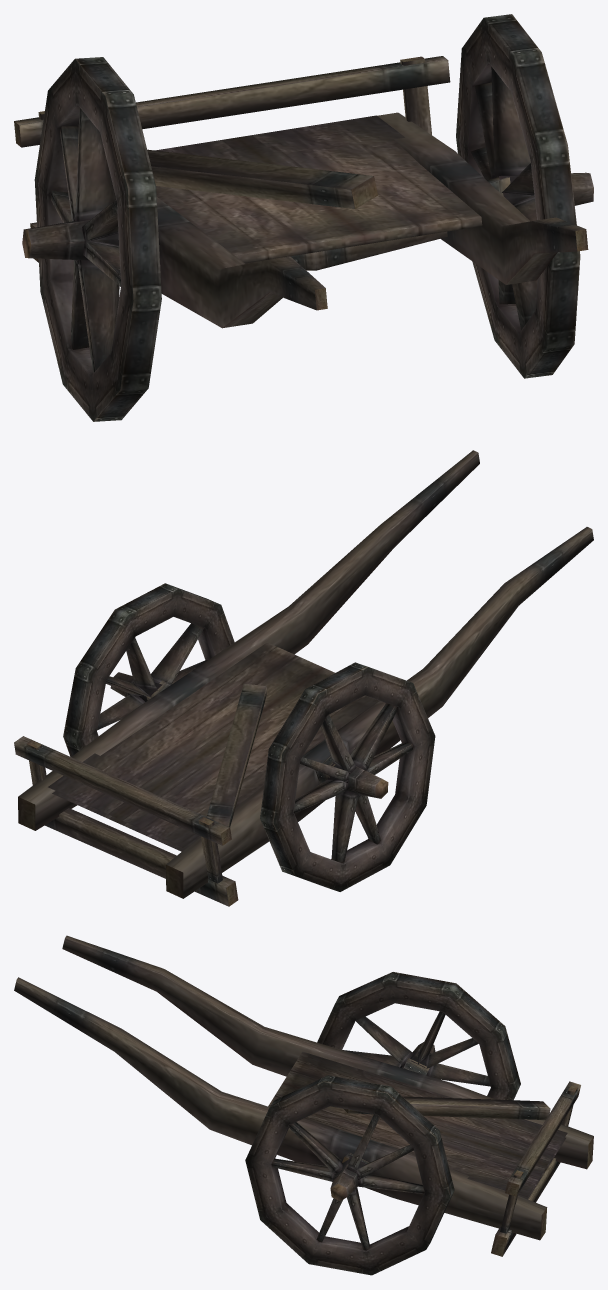
The model's file is cart02.FBX.
3 views of the same model, one above another, from view 1: azimuth 30°, elevation 25°; view 2: azimuth 150°, elevation 25°; view 3: azimuth 270°, elevation 25° (orthographic). The views are drawn at different scales.
Parts seen in each view (by area): view 1: cart02; view 2: cart02; view 3: cart02.
Boxes of the visible parts, x1=… form: cart02: x1=14, y1=14, x2=593, y2=421; cart02: x1=14, y1=450, x2=593, y2=906; cart02: x1=14, y1=935, x2=593, y2=1275.
Size of the model in its own units: 77.02 by 55.54 by 128.
